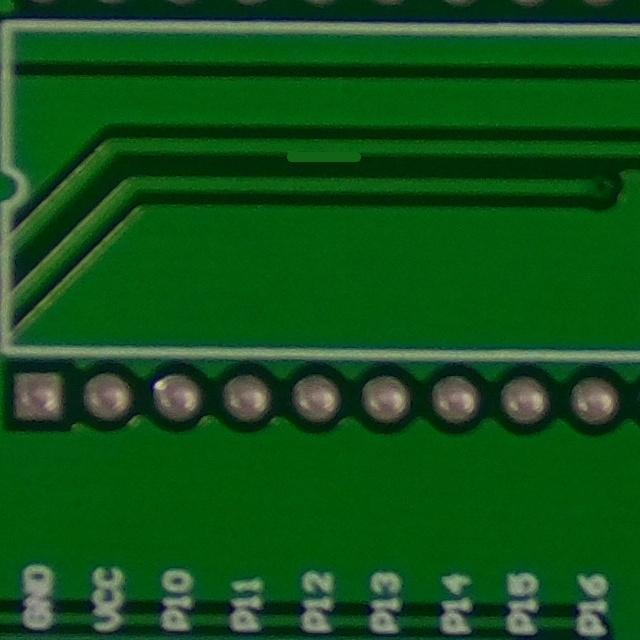spur: (260, 125, 385, 176)
